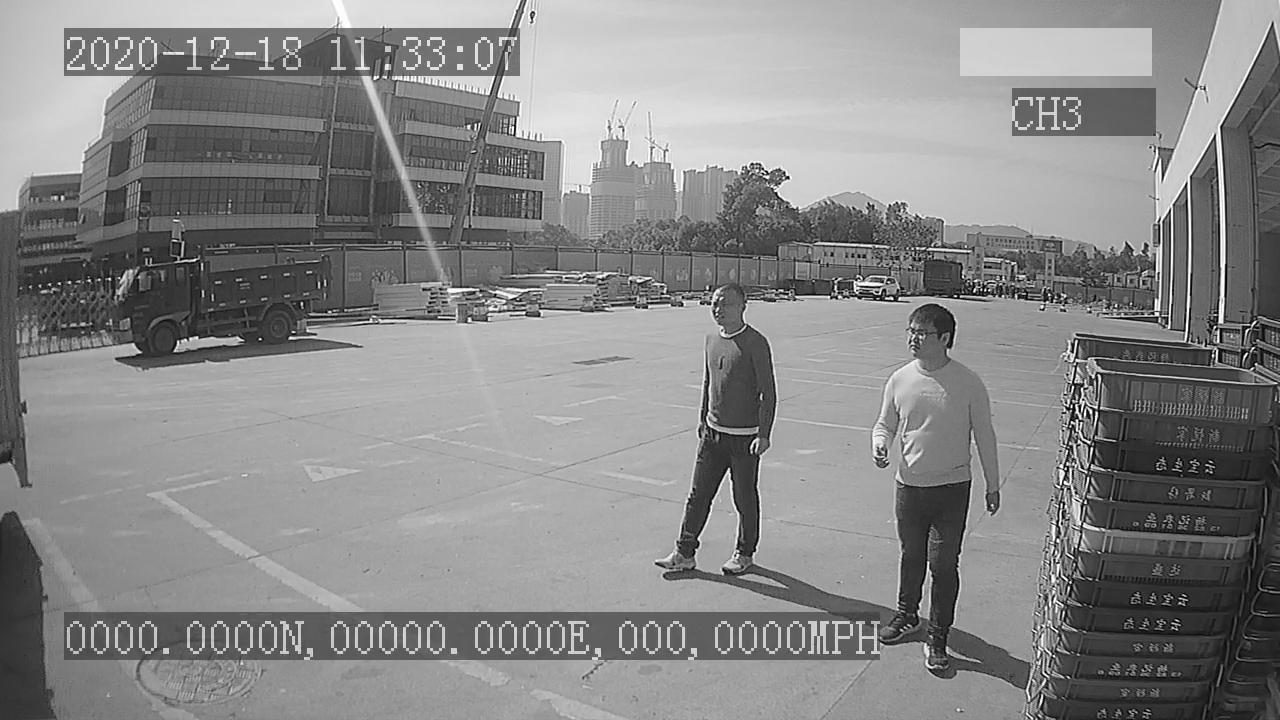person: (651, 279, 776, 577)
